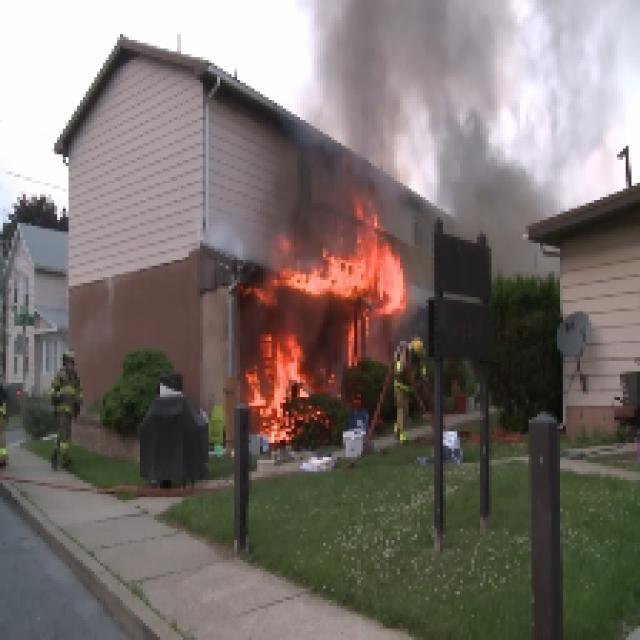Fire: (214, 208, 420, 468)
Smoke: (257, 0, 640, 251)
